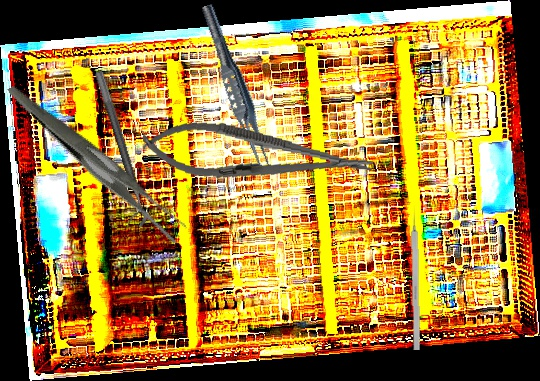Dressing Forceps: (7, 46, 191, 277)
Fixation Ring: (81, 70, 152, 231)
Hook Surgical: (410, 204, 421, 351)
Needle Holder: (139, 114, 376, 196)
Tissue Forceps: (193, 2, 280, 176)
